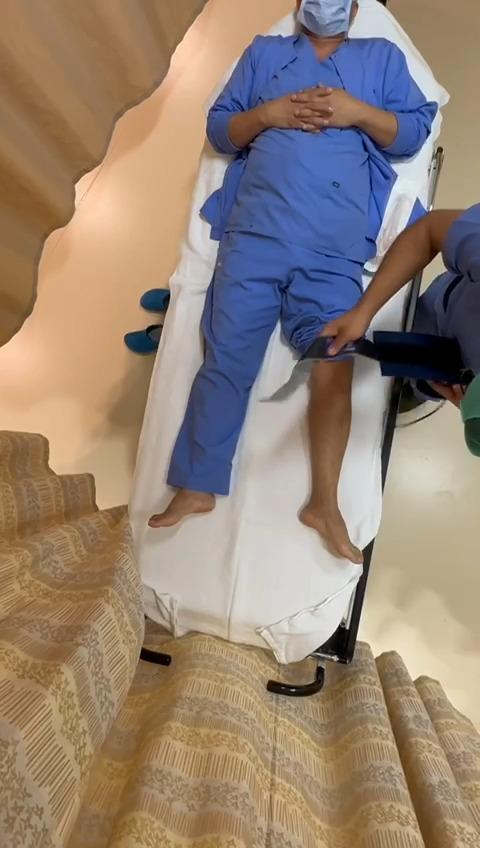bed: (129, 0, 444, 668)
patient: (149, 0, 437, 563)
